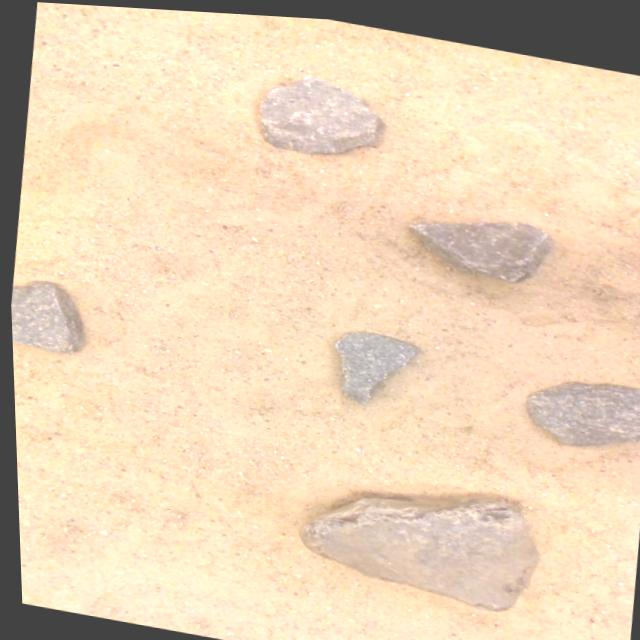rock: (296, 492, 533, 604), (259, 71, 380, 149), (408, 214, 550, 274), (523, 374, 640, 437), (332, 326, 416, 398), (9, 279, 79, 350)
